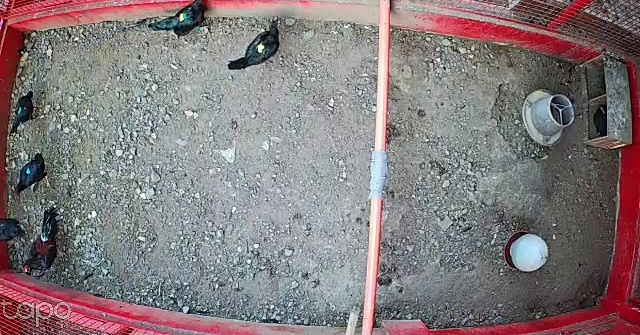Chicken: (227, 14, 284, 73), (146, 0, 221, 39), (7, 86, 43, 135), (15, 152, 49, 195), (0, 215, 25, 247)
Rooster: (21, 205, 66, 276)
Saddle_Color_Blue: (25, 167, 32, 175)
Saddle_Color_Yellow: (257, 43, 267, 54)
Saddle_Color_YellowGreen: (179, 12, 190, 24)
